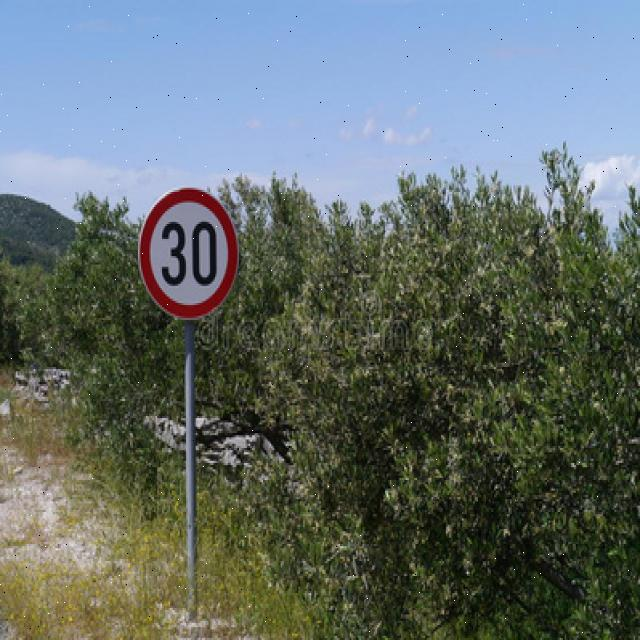speed limit 30: (137, 186, 239, 322)
